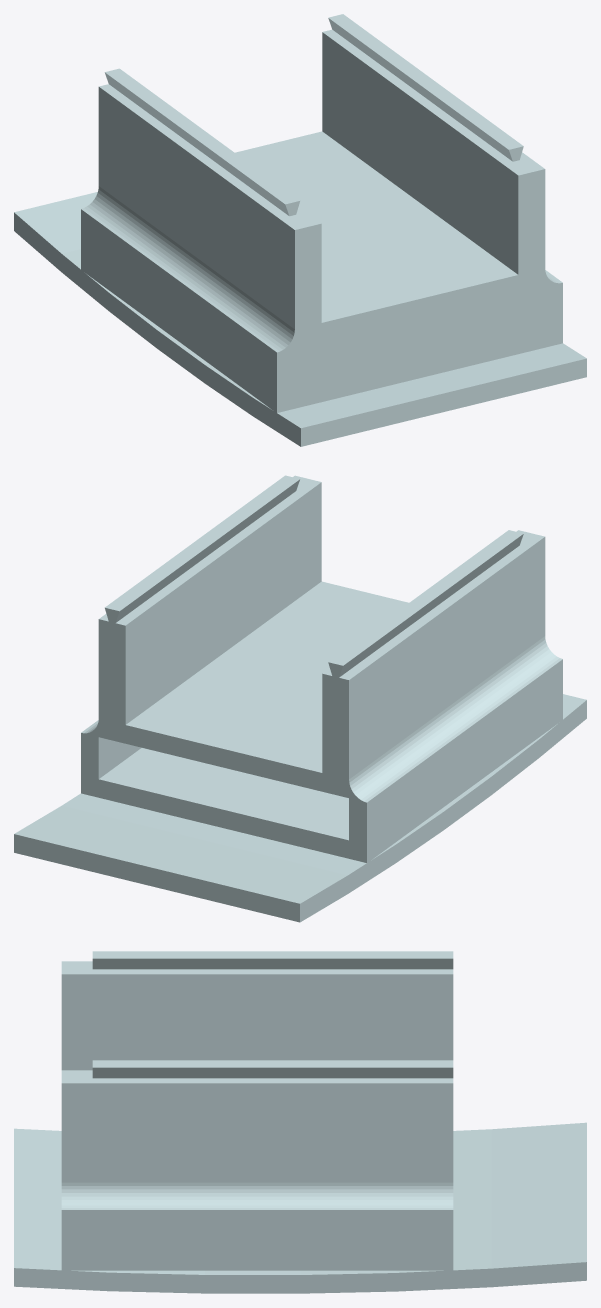
Rendered from FrontPlate2.0.glb.
3 renders of one model, top to bottom at view 1: azimuth 30°, elevation 25°; view 2: azimuth 150°, elevation 25°; view 3: azimuth 270°, elevation 25°, orthographic.
Size of the model in its own units: 102 by 73 by 176.
